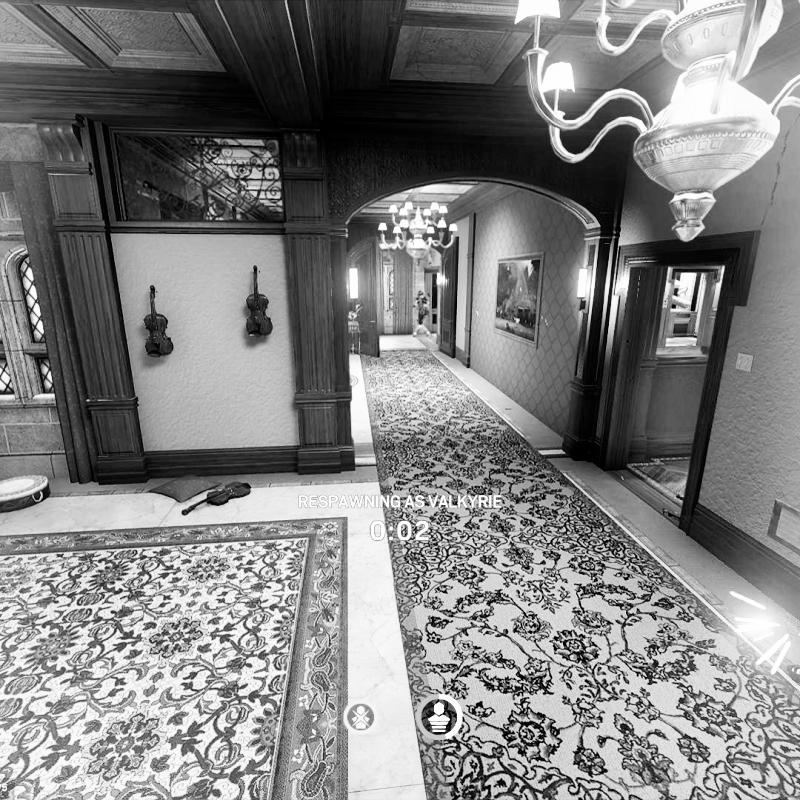Character: (410, 288, 434, 338)
Head: (417, 289, 425, 299)
